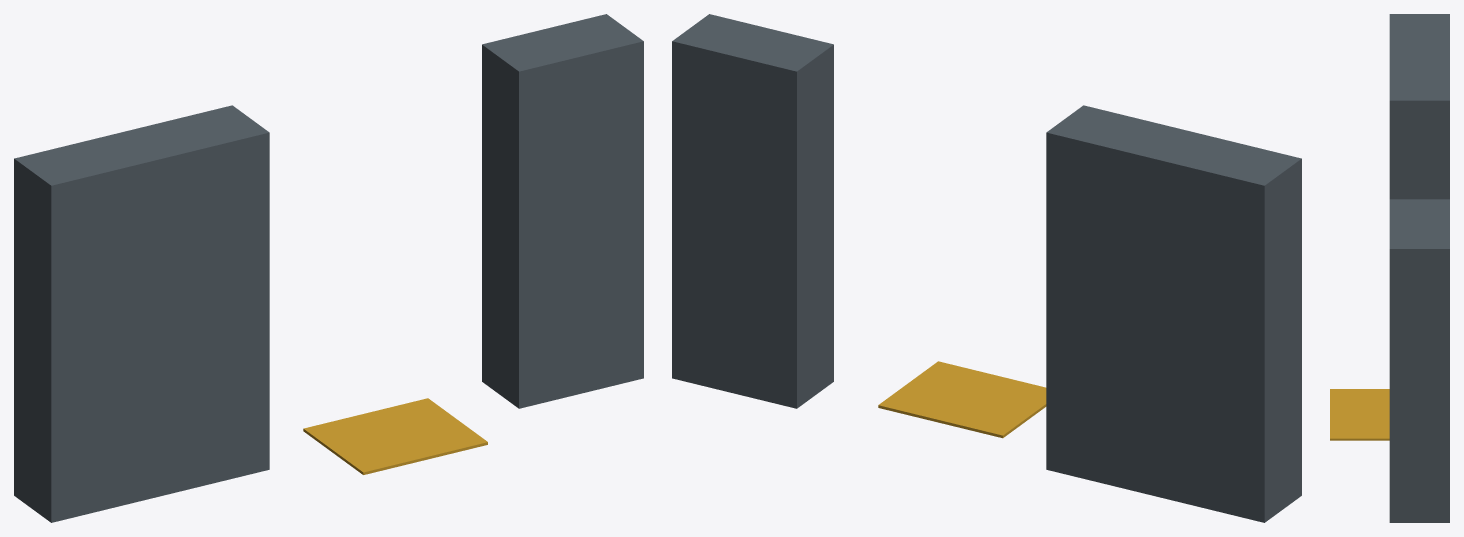
File: door.blast_door_partial.glb
3 renders of one model, left to right at view 1: azimuth 30°, elevation 25°; view 2: azimuth 150°, elevation 25°; view 3: azimuth 270°, elevation 25°, orthographic. The views are drawn at different scales.
Parts seen in each view (by area): view 1: left_blast_leaf, right_blast_leaf, gap_warning; view 2: left_blast_leaf, right_blast_leaf, gap_warning; view 3: right_blast_leaf, left_blast_leaf, gap_warning.
Boxes of the visible parts, x1,y1,x2,y2 form: left_blast_leaf: (14, 105, 269, 522); right_blast_leaf: (482, 14, 643, 408); gap_warning: (303, 398, 487, 474); left_blast_leaf: (1046, 105, 1301, 522); right_blast_leaf: (672, 14, 833, 408); gap_warning: (878, 361, 1046, 438); right_blast_leaf: (1389, 199, 1449, 522); left_blast_leaf: (1389, 14, 1449, 199); gap_warning: (1330, 389, 1389, 440).
Bounding box in the file's own units: 5.7 × 3.1 × 1.23.
